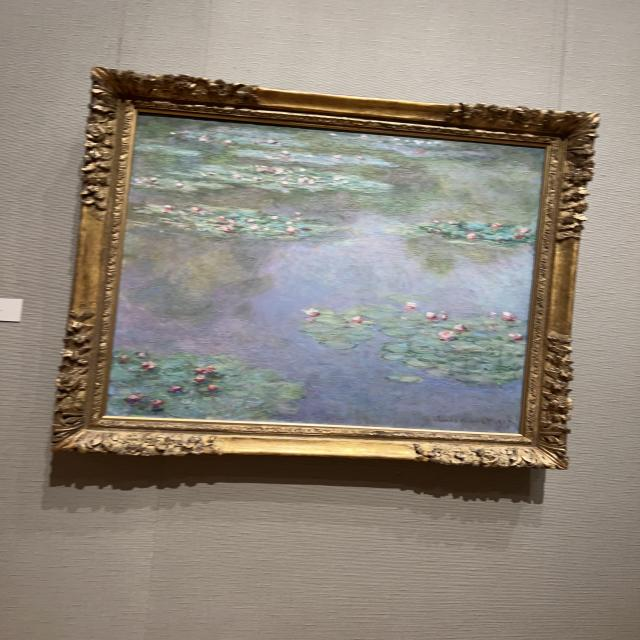lilies: (110, 114, 540, 433)
